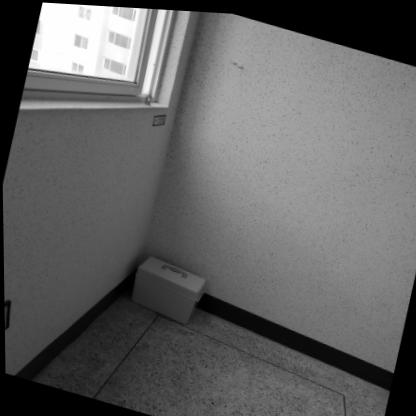DDL: (127, 250, 209, 327)
